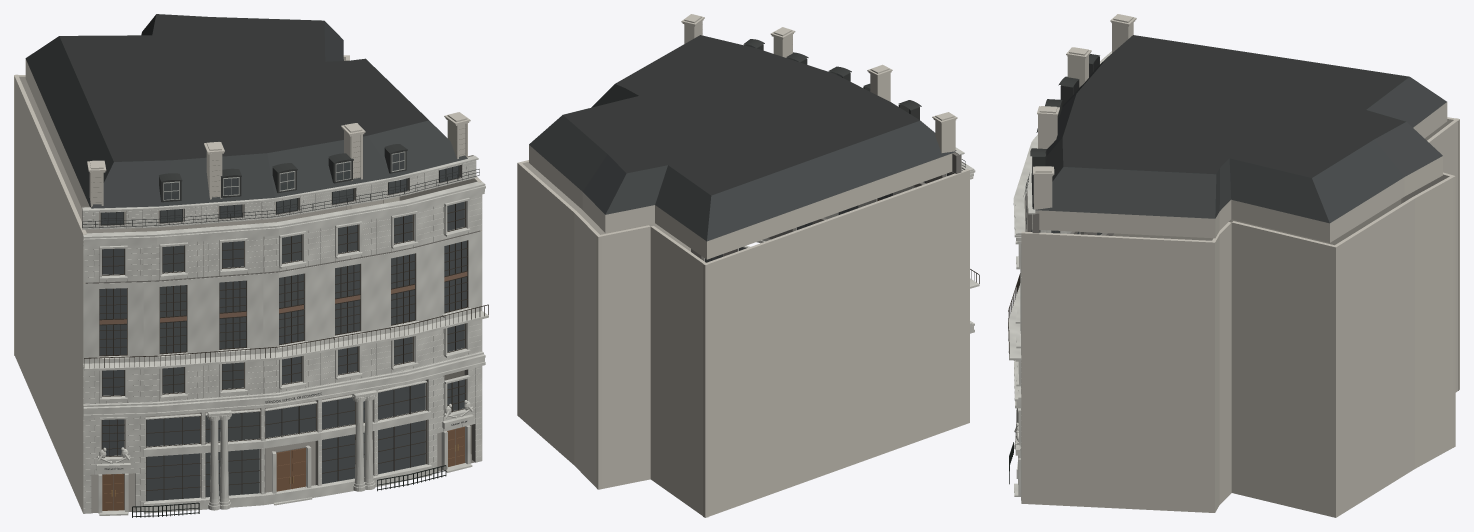
The model's file is clm-exterior-5d93b7df278a.glb.
3 renders of one model, left to right at view 1: azimuth 30°, elevation 25°; view 2: azimuth 150°, elevation 25°; view 3: azimuth 270°, elevation 25°, orthographic. The views are drawn at different scales.
Visible parts, largest first — view 1: CLM.001; view 2: CLM.001; view 3: CLM.001.
Boxes of the visible parts, x1,y1,x2,y2 form: CLM.001: (14, 14, 488, 517); CLM.001: (517, 14, 979, 517); CLM.001: (1008, 14, 1459, 517).
Size of the model in its own units: 33.24 by 28.81 by 34.59.
29 materials, 6 textured.
